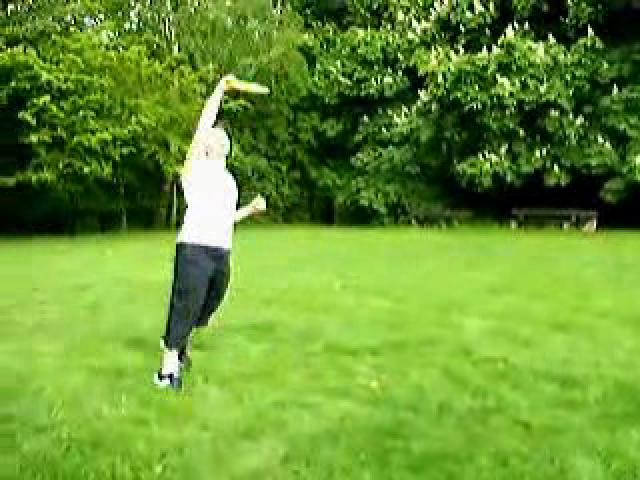T: (146, 59, 270, 405)
